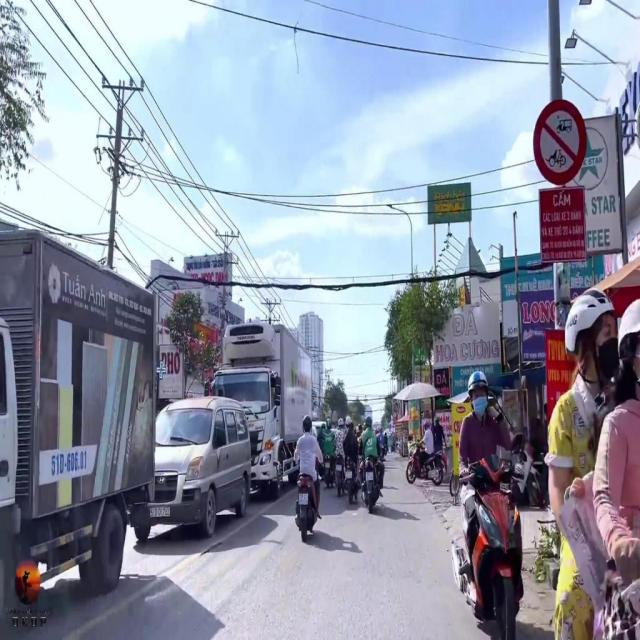cam_cac_loai_xe_3_banh: (532, 98, 586, 184)
